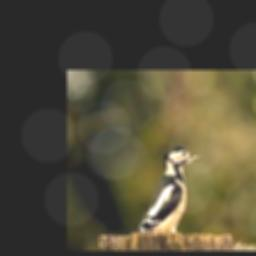Woodpecker: (137, 147, 201, 233)
